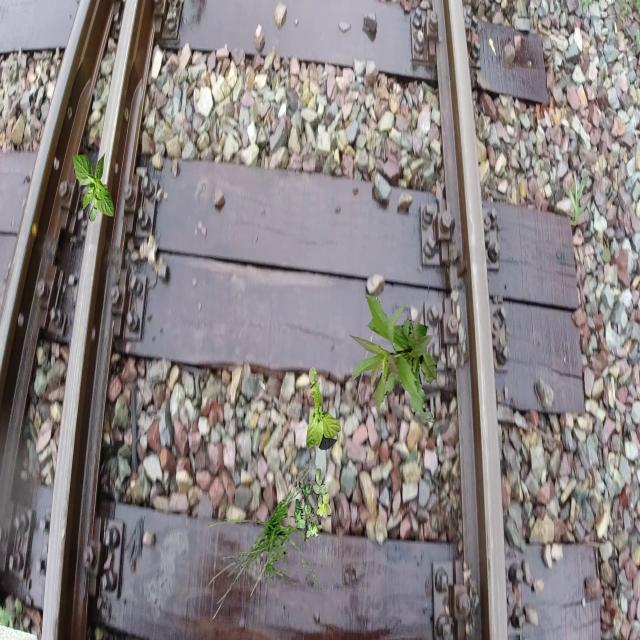Plant: (205, 457, 324, 620), (349, 293, 438, 423), (306, 367, 342, 450), (73, 152, 114, 223), (294, 468, 332, 542), (564, 170, 590, 226)
